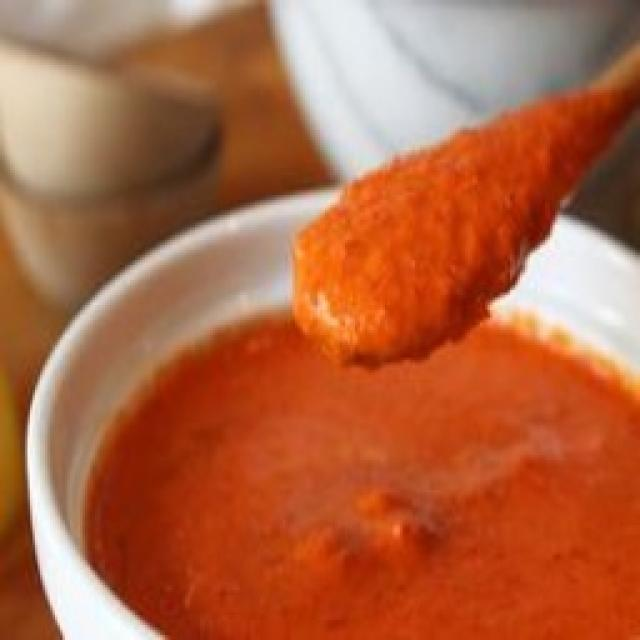Harissa: (72, 95, 640, 640)
